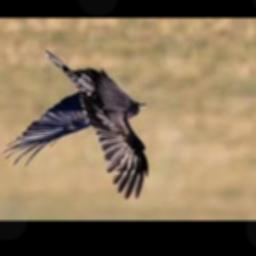Crow: (1, 51, 148, 200)
